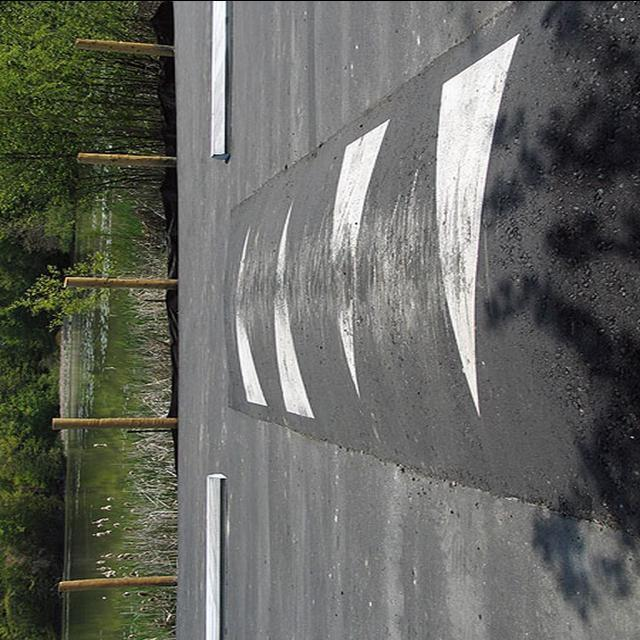speedbreaker: (235, 5, 634, 532)
